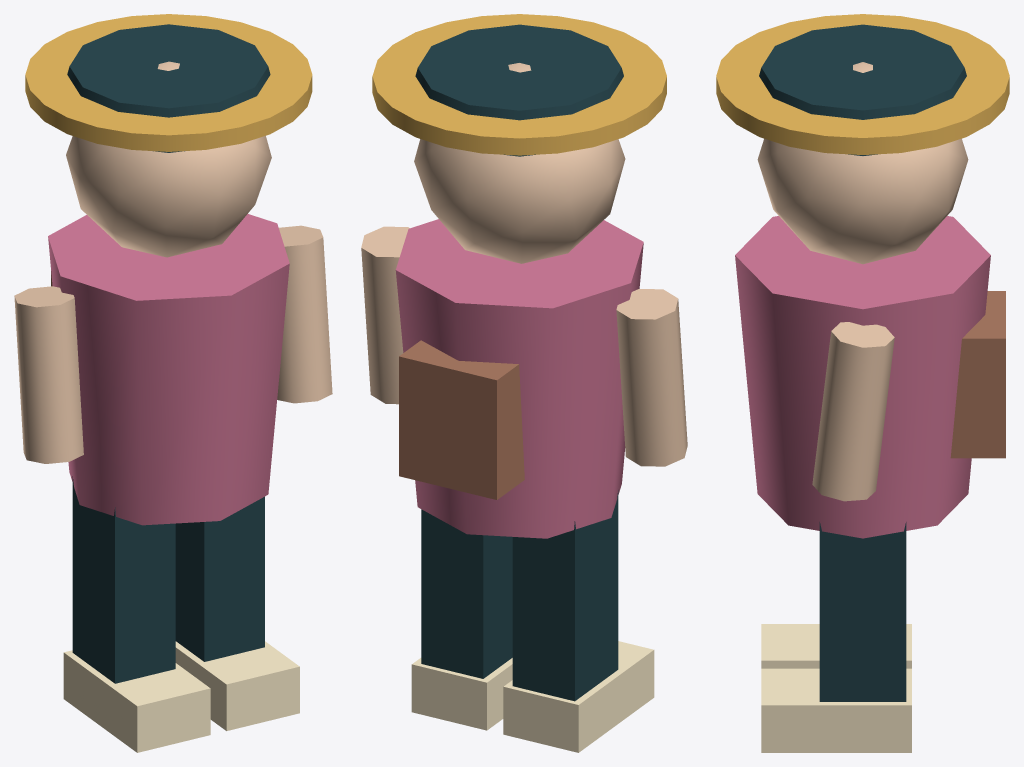
File: guest_e.glb
3 renders of one model, left to right at view 1: azimuth 30°, elevation 25°; view 2: azimuth 150°, elevation 25°; view 3: azimuth 270°, elevation 25°, orthographic. The views are drawn at different scales.
Parts seen in each view (by area): view 1: guest_e; view 2: guest_e; view 3: guest_e.
Part boxes in pixels (box(x1,y1,x2,y2)): guest_e: box(14, 14, 332, 752); guest_e: box(361, 14, 687, 752); guest_e: box(716, 14, 1009, 752).
Size of the model in its own units: 0.95 by 1.9 by 0.78.
